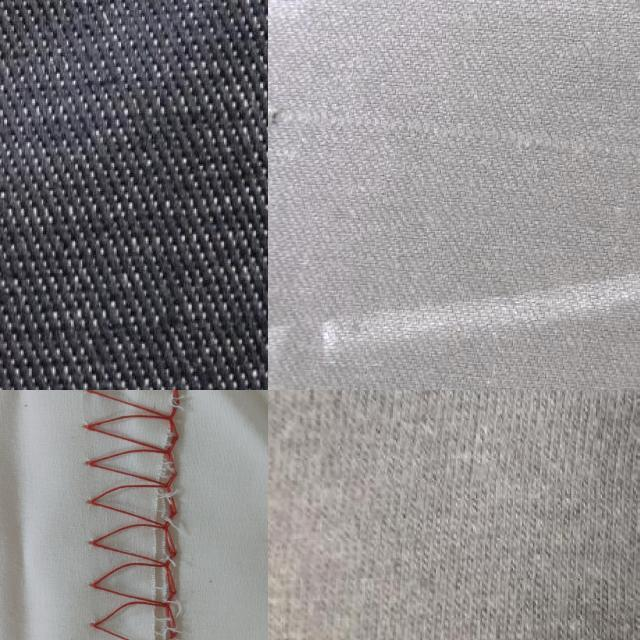stains: (268, 87, 640, 222)
